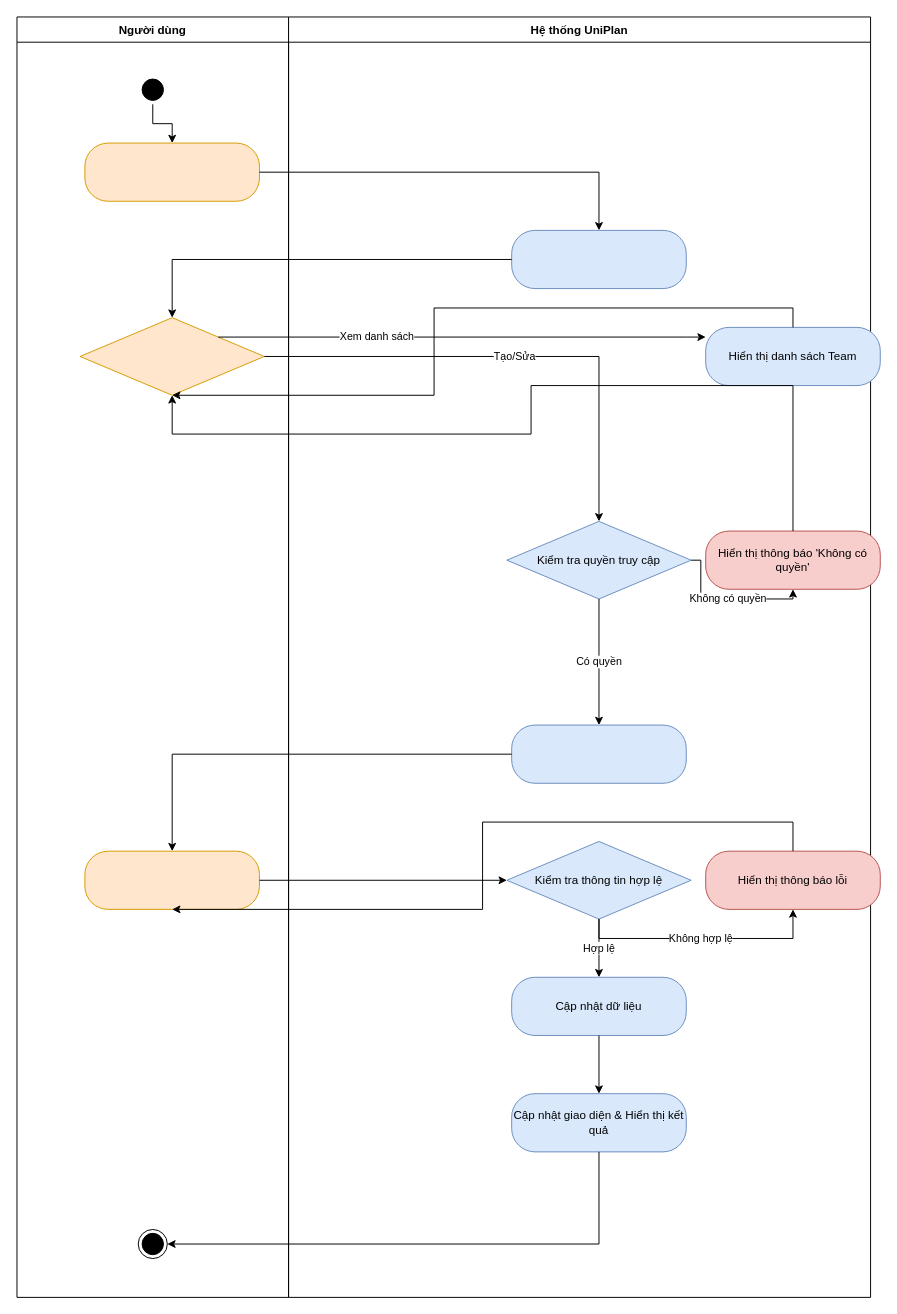
This 897x1314 diagram has some shape labels left out. The shapes that lost their labels are listed below. From the top down, each one's centre as x and y in pixels, then its label:
pixel 171 171: Truy cập chức năng Quản lý Team
pixel 598 259: Hiển thị giao diện Quản lý Team
pixel 171 356: Chọn thao tác
pixel 598 753: Hiển thị form Tạo/Sửa Team
pixel 171 879: Nhập và Lưu thông tin Team
